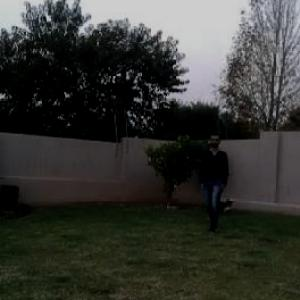follow: (198, 132, 227, 233)
